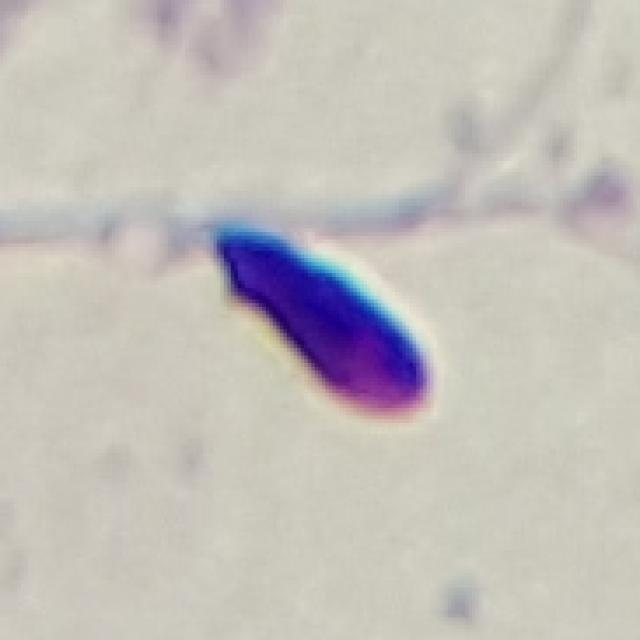abnormal sperm: (35, 188, 449, 445)
